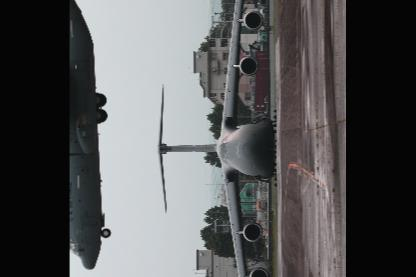Be200: (69, 0, 111, 269)
C17: (156, 0, 278, 275)
